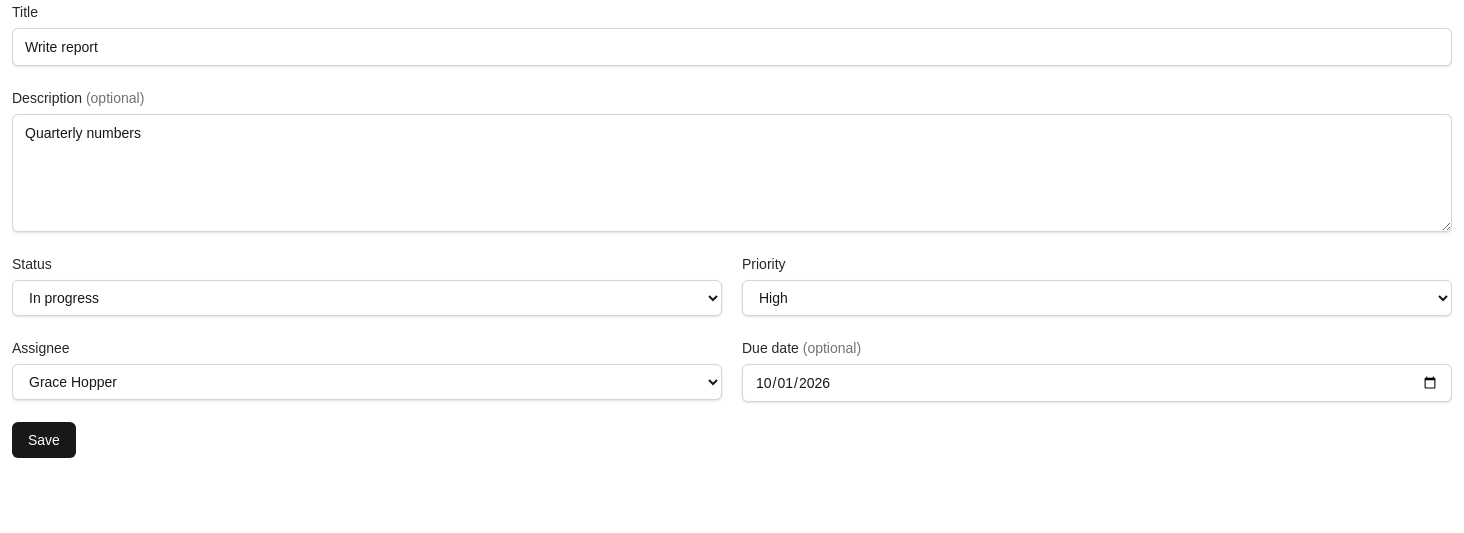
it: TaskForm › shows a non-field error as an alert
The image size is (1464, 533).
Click the button "Save".
click(44, 440)  # box [12,422,76,458]
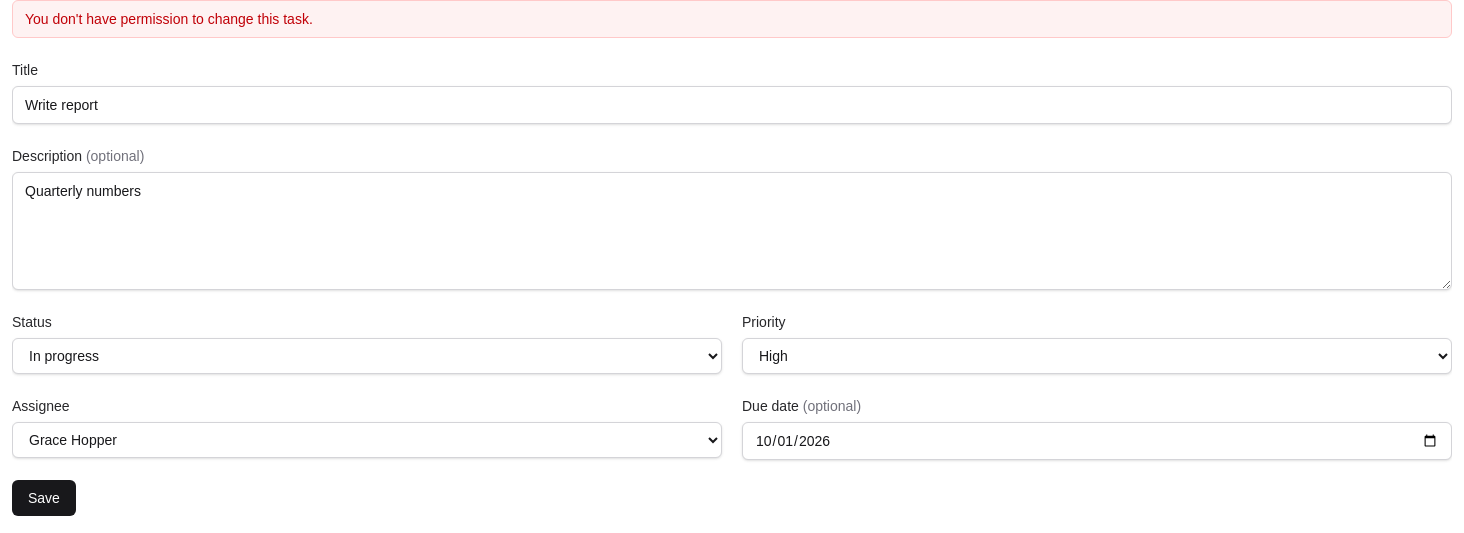
Now the message reads "You don't have permission to change this task.", box [25,11,313,27]
